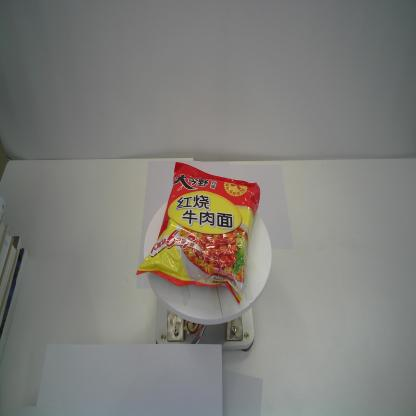Instant Noodles: (135, 161, 261, 305)
